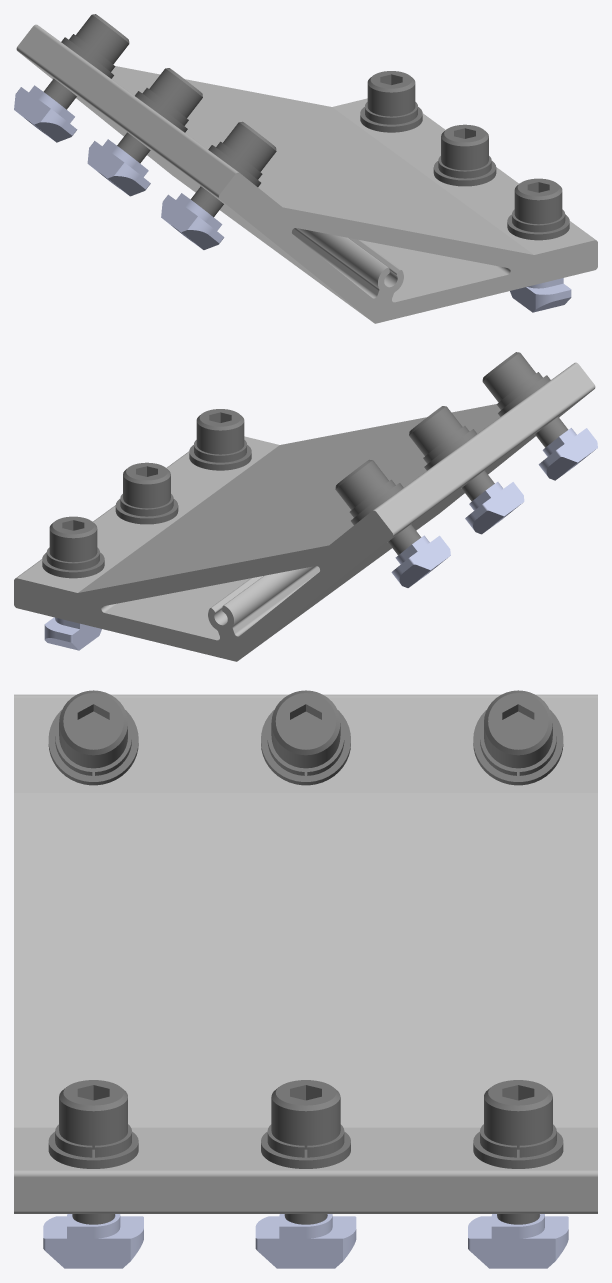
Rendered from TPGL-TPGL-4010-70A110-Z-ZP.glb.
3 renders of one model, top to bottom at view 1: azimuth 30°, elevation 25°; view 2: azimuth 150°, elevation 25°; view 3: azimuth 270°, elevation 25°, orthographic. The views are drawn at different scales.
Parts seen in each view (by area): view 1: NAUO1, NAUO13, NAUO2, NAUO12, NAUO4, NAUO9, NAUO8, NAUO5, NAUO6, NAUO7, NAUO3; view 2: NAUO1, NAUO2, NAUO13, NAUO12, NAUO9, NAUO4, NAUO8, NAUO7, NAUO5, NAUO6, NAUO11; view 3: NAUO1, NAUO12, NAUO2, NAUO13, NAUO4, NAUO9, NAUO8, NAUO10, NAUO3, NAUO11.
Boxes of the visible parts, <box> form: NAUO1: <box>16,24,597,323</box>; NAUO13: <box>360,71,422,132</box>; NAUO2: <box>507,178,569,240</box>; NAUO12: <box>433,124,496,186</box>; NAUO4: <box>190,121,276,217</box>; NAUO9: <box>43,14,129,109</box>; NAUO8: <box>117,68,202,163</box>; NAUO5: <box>161,193,224,249</box>; NAUO6: <box>87,139,150,196</box>; NAUO7: <box>14,85,77,142</box>; NAUO3: <box>510,278,571,312</box>; NAUO1: <box>14,362,595,661</box>; NAUO2: <box>189,409,251,470</box>; NAUO13: <box>42,516,104,578</box>; NAUO12: <box>115,462,178,524</box>; NAUO9: <box>335,459,421,555</box>; NAUO4: <box>482,352,568,447</box>; NAUO8: <box>409,406,494,501</box>; NAUO7: <box>391,535,450,587</box>; NAUO5: <box>538,428,597,480</box>; NAUO6: <box>465,482,524,534</box>; NAUO11: <box>44,617,101,650</box>; NAUO1: <box>14,694,597,1213</box>; NAUO12: <box>261,1080,350,1224</box>; NAUO2: <box>48,1080,138,1224</box>; NAUO13: <box>473,1080,563,1224</box>; NAUO4: <box>48,690,138,785</box>; NAUO9: <box>473,690,563,785</box>; NAUO8: <box>261,690,350,785</box>; NAUO10: <box>255,1214,356,1268</box>; NAUO3: <box>43,1214,143,1268</box>; NAUO11: <box>468,1214,568,1268</box>.
Size of the model in its own units: 0.1254 by 0.0745 by 0.11.
